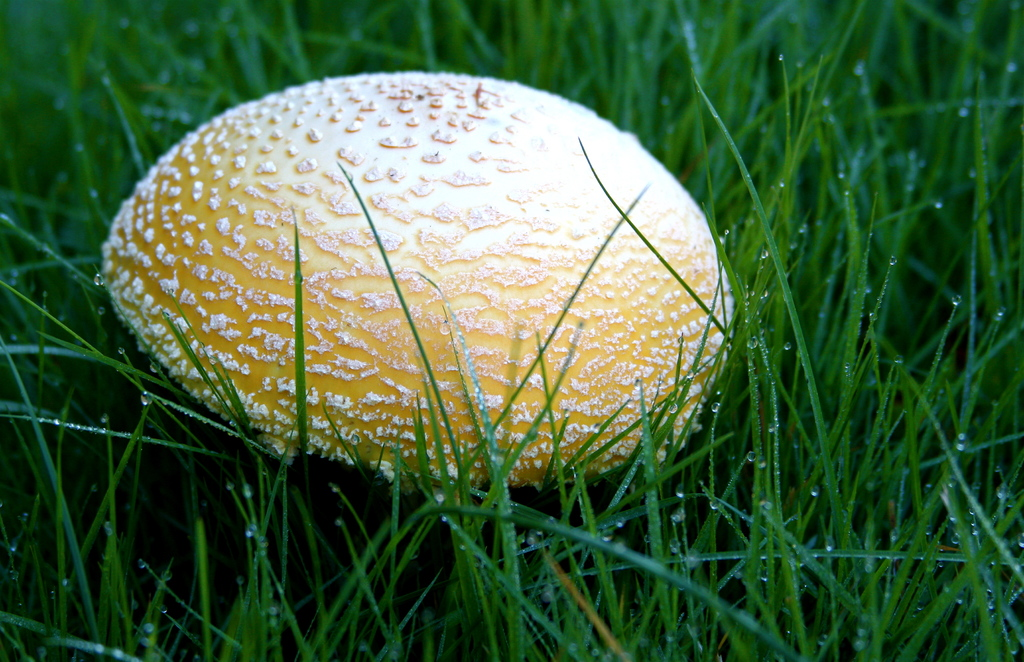Ball: (101, 72, 732, 490)
